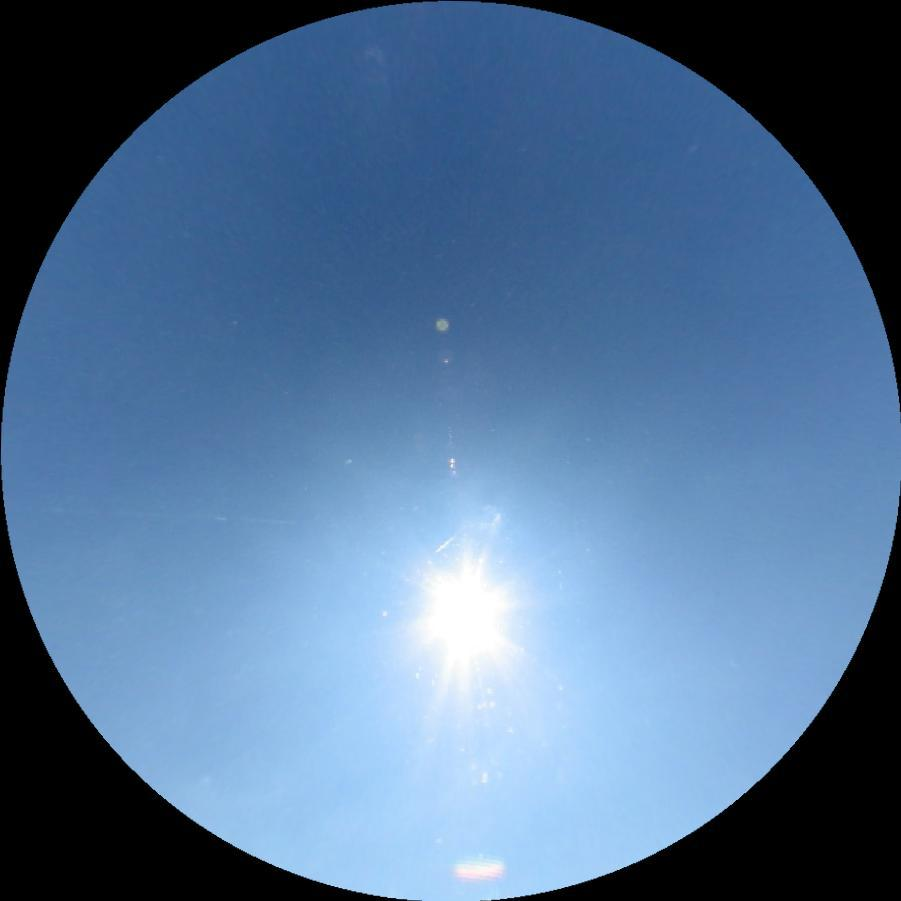contrail young: (432, 530, 460, 555)
sun: (396, 544, 529, 682)
